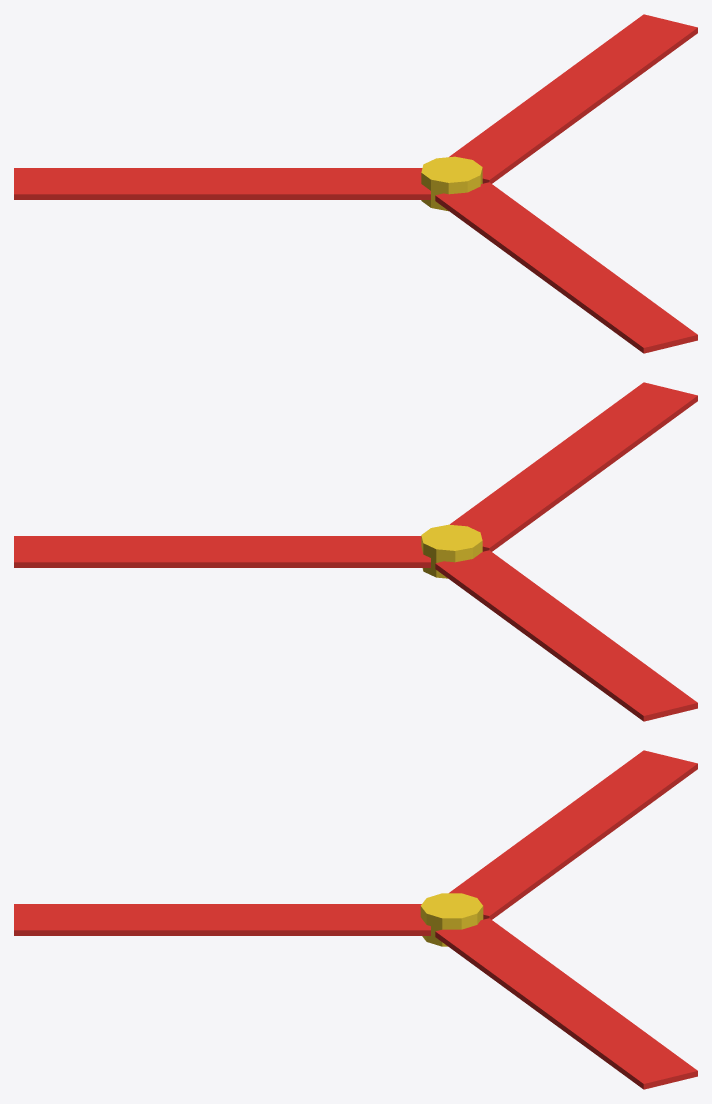
The model's file is air_toy_rotor.glb.
3 renders of one model, top to bottom at view 1: azimuth 30°, elevation 25°; view 2: azimuth 150°, elevation 25°; view 3: azimuth 270°, elevation 25°, orthographic.
Bounding box in the file's own units: 7.57 × 0.3 × 6.56.
